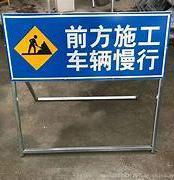sign: (4, 12, 169, 80)
